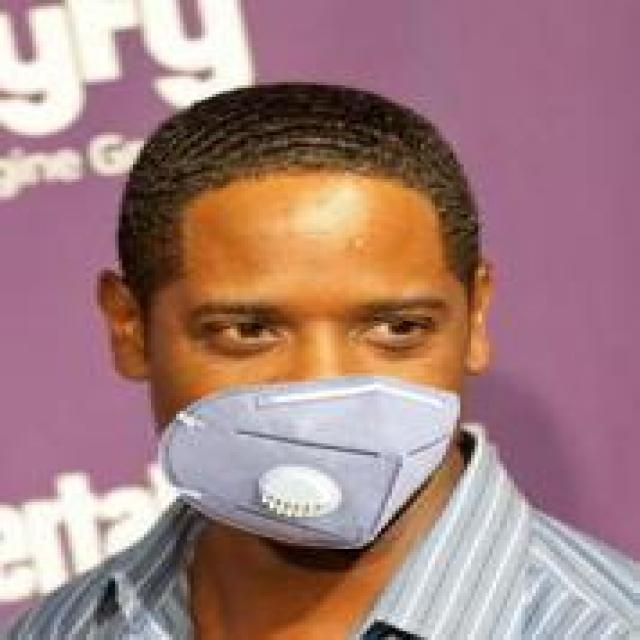mask: (101, 76, 507, 558)
